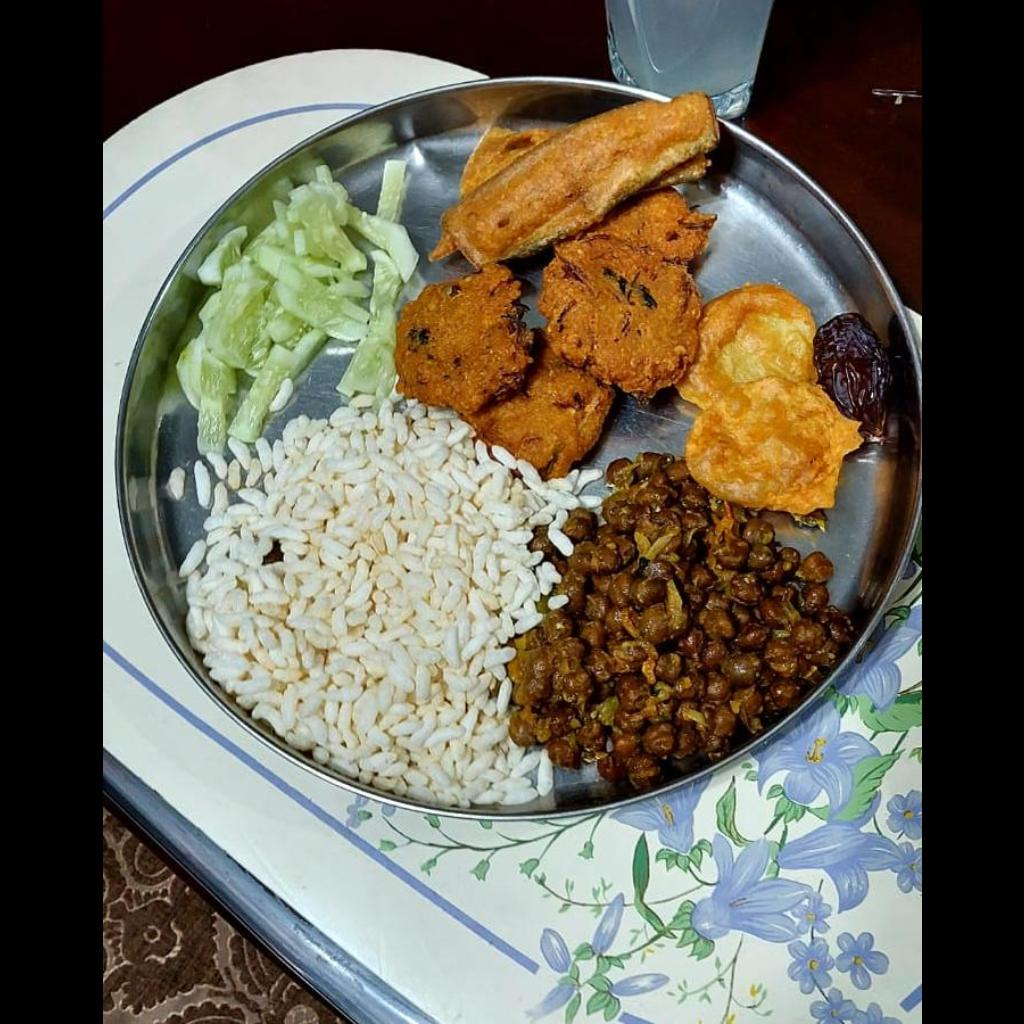beguni: (425, 88, 721, 268)
chola: (513, 459, 841, 773)
cucumber: (172, 150, 422, 463)
dates: (818, 321, 884, 415)
piyaju: (394, 191, 710, 477)
puffed-rice: (190, 415, 559, 805)
puri: (674, 284, 862, 515)
